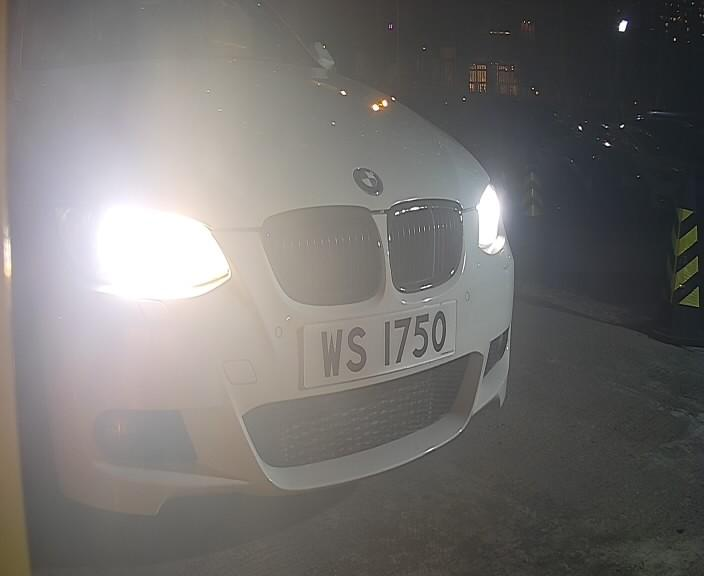License Plate: (309, 289, 475, 391)
